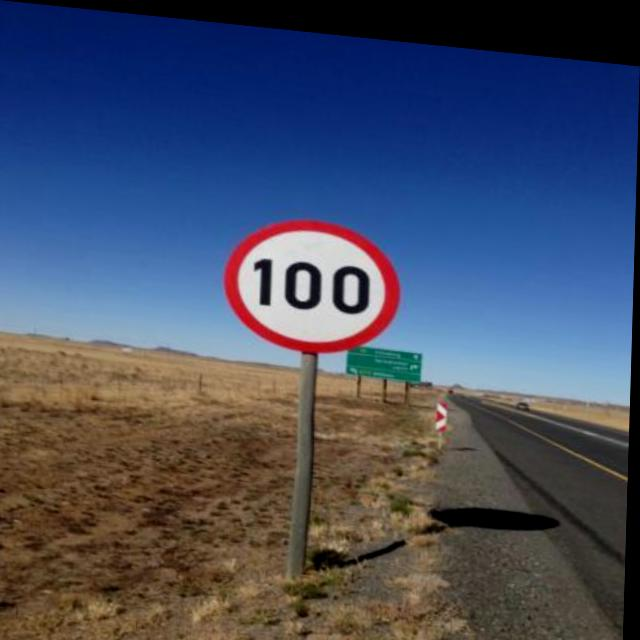limit100: (223, 204, 408, 355)
